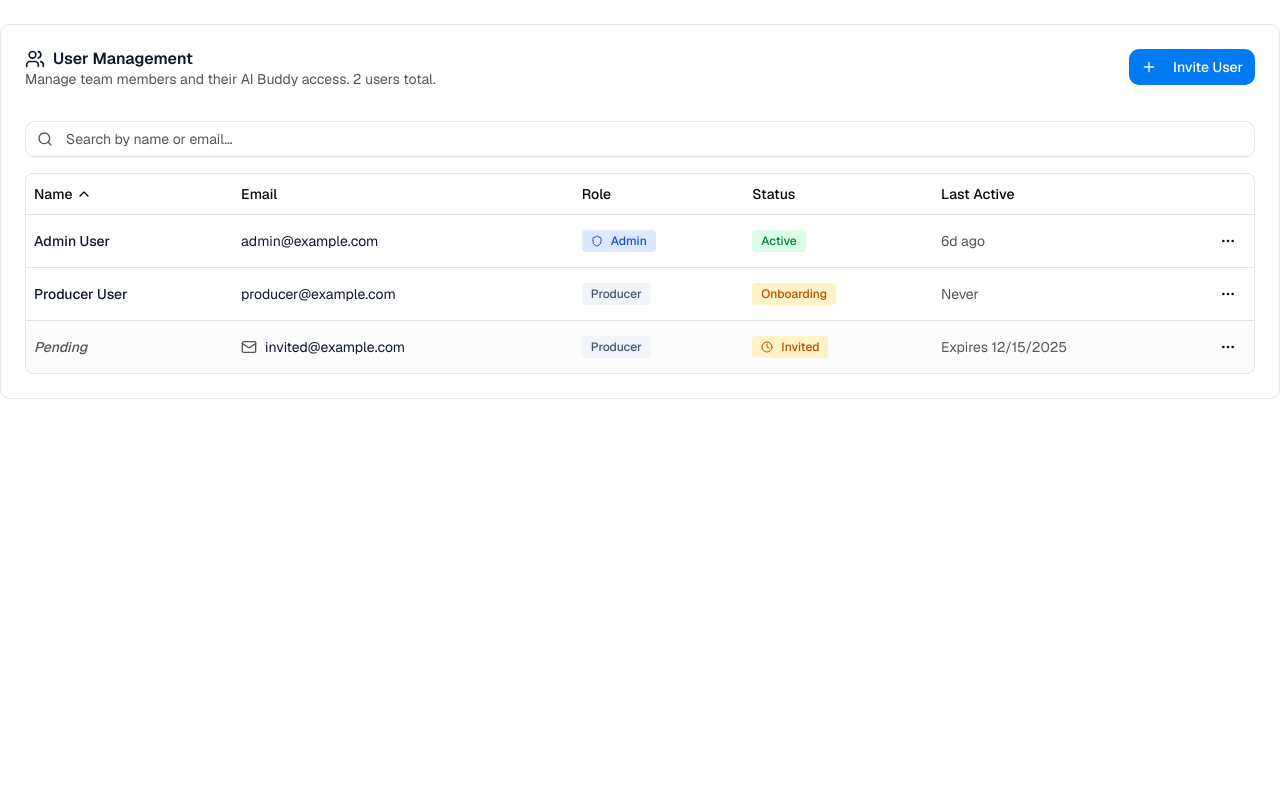
UserManagementPanel › Invite Button (AC-20.2.3) › opens invite dialog when clicked
Click the button with test id "invite-user-button".
click(1192, 67)  # box left=1129, top=49, right=1255, bottom=85
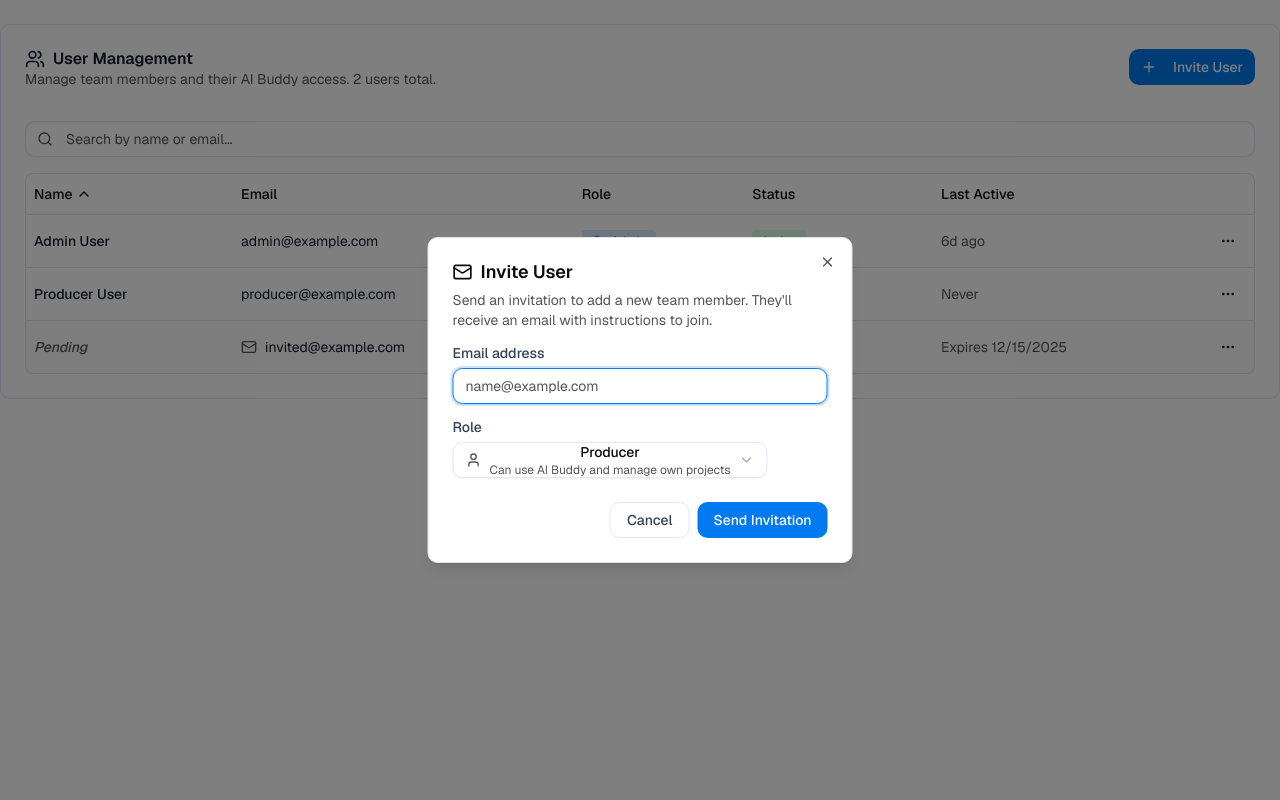
Expected: the dialog with test id "invite-user-dialog" is shown, left=428, top=237, right=852, bottom=563
